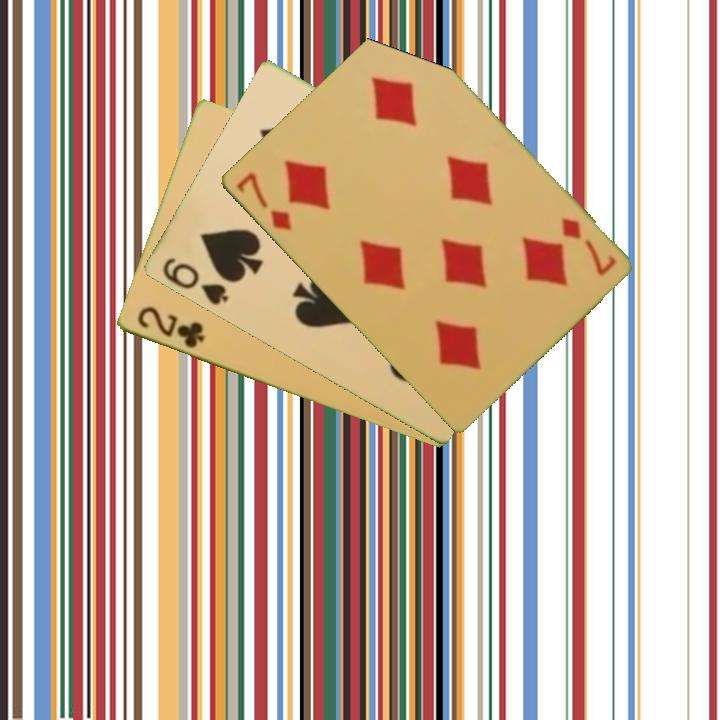2c: (133, 303, 207, 352)
6s: (158, 254, 230, 309)
7d: (232, 168, 295, 233), (557, 214, 619, 279)
